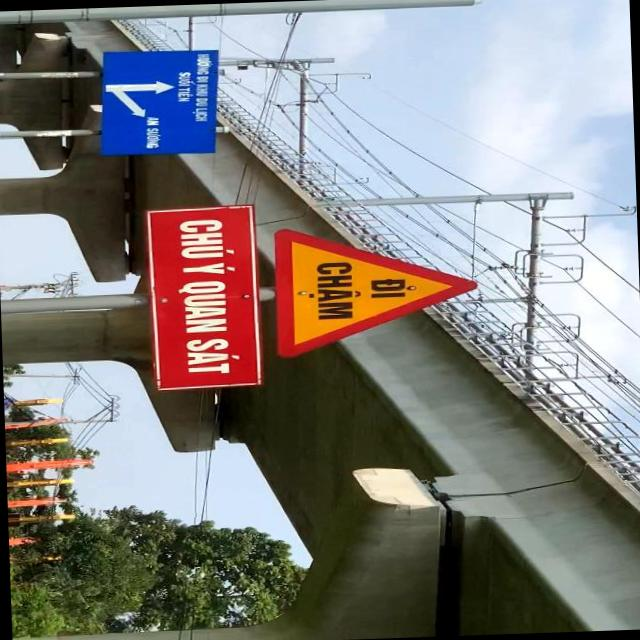W-245a: (270, 222, 478, 358)
